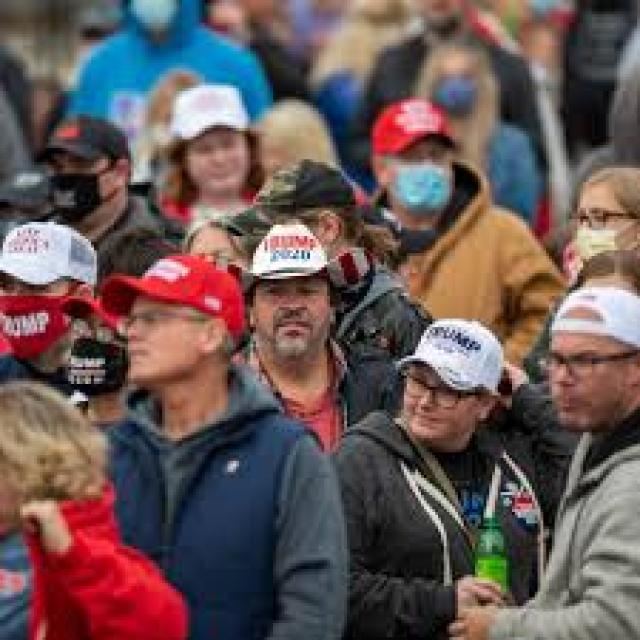cap: (119, 242, 259, 370), (395, 296, 518, 415), (6, 210, 108, 336), (245, 216, 344, 330), (546, 285, 640, 381), (165, 82, 259, 176), (43, 114, 145, 196), (369, 94, 464, 182)
